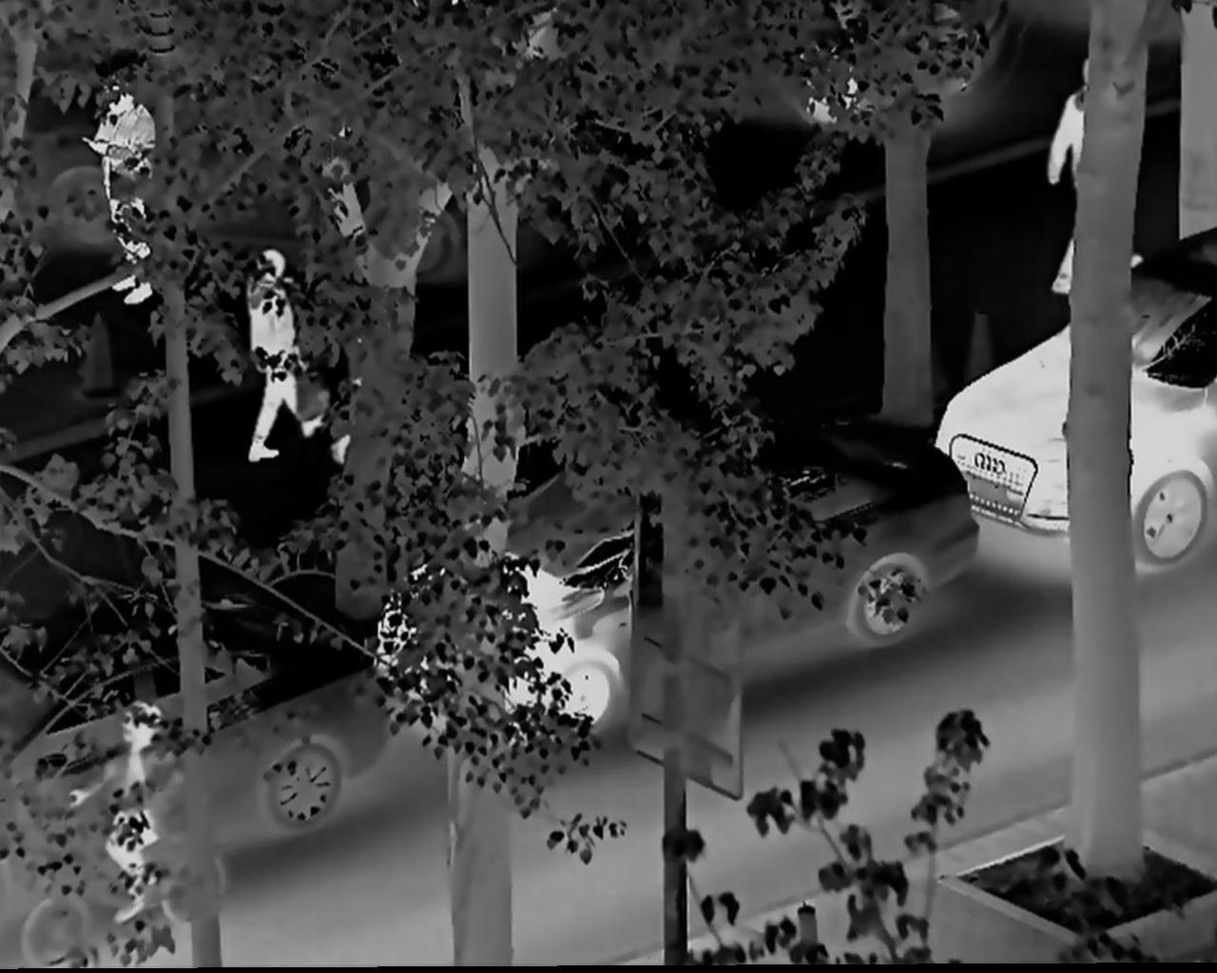person: (74, 695, 210, 920), (1042, 53, 1140, 291), (81, 74, 176, 316), (242, 249, 326, 457)
